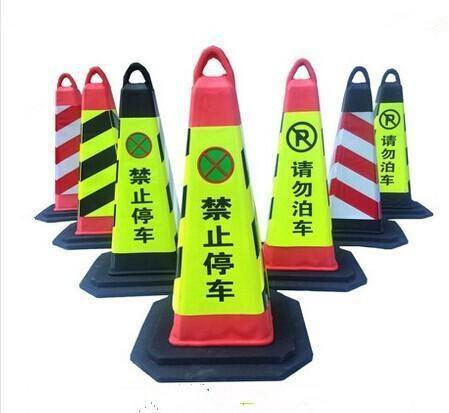cone_barrel: (160, 53, 277, 354), (254, 64, 347, 283), (95, 62, 184, 281), (63, 70, 125, 245), (323, 70, 388, 235), (367, 71, 422, 214), (40, 78, 84, 210)
